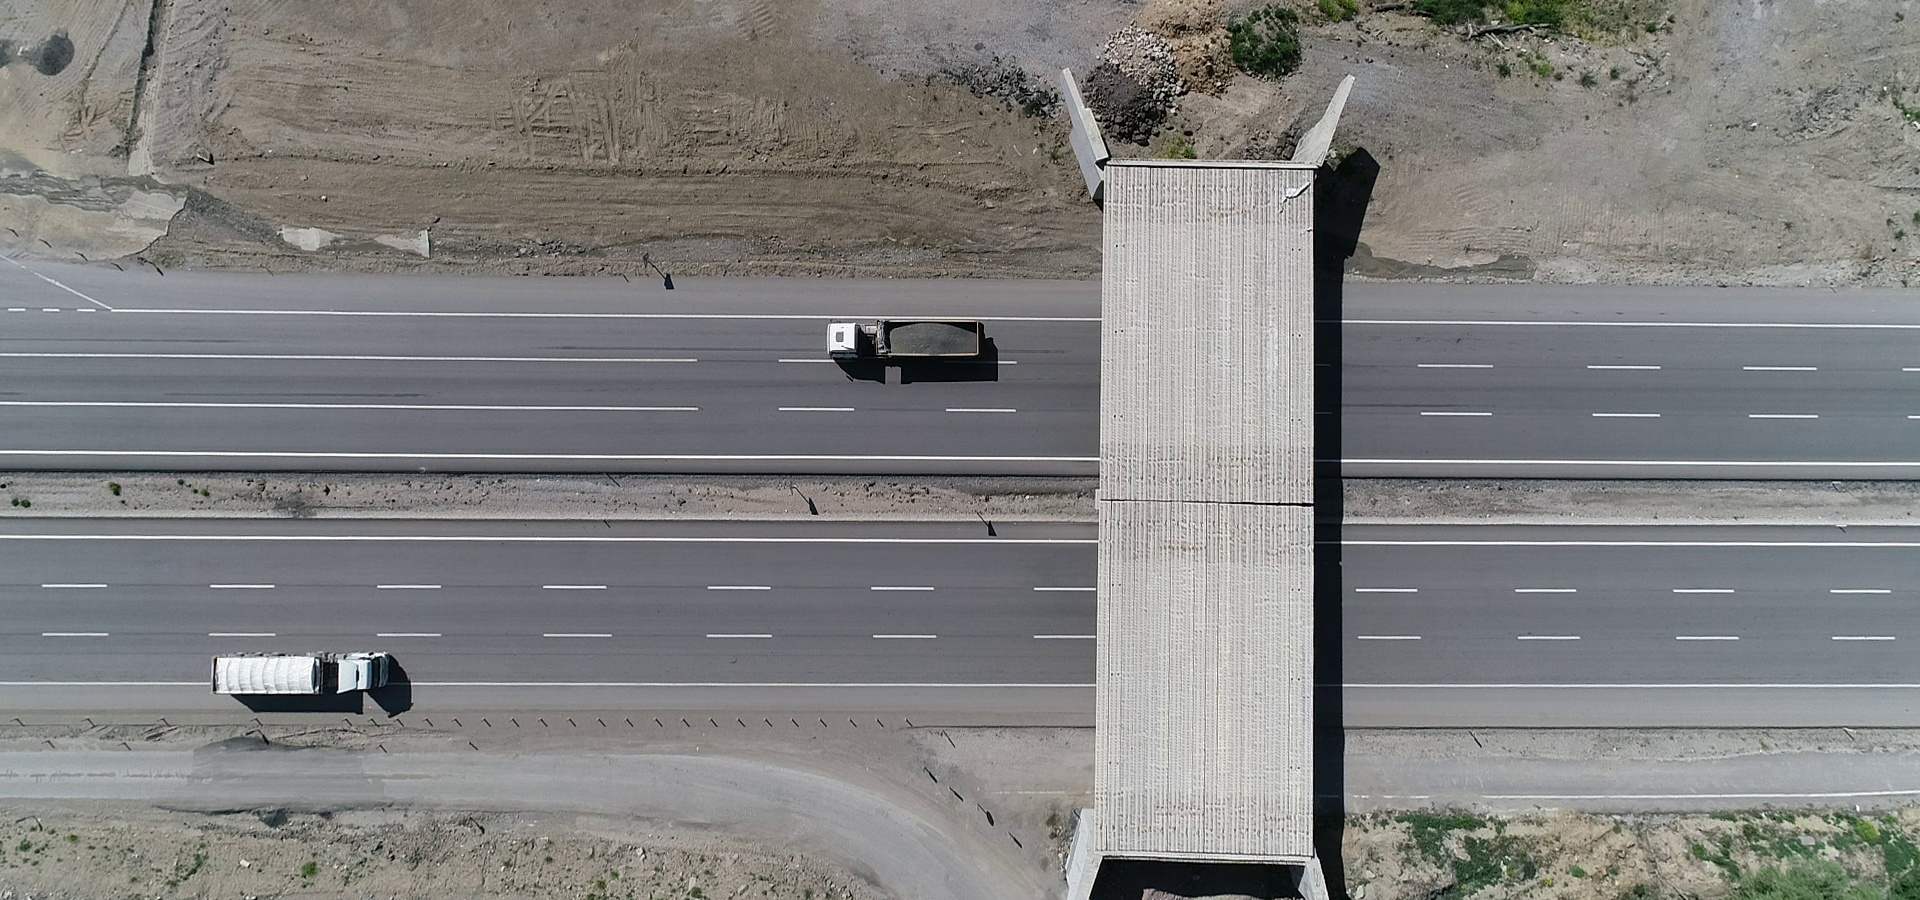arac: (198, 645, 403, 699), (827, 306, 991, 367)
